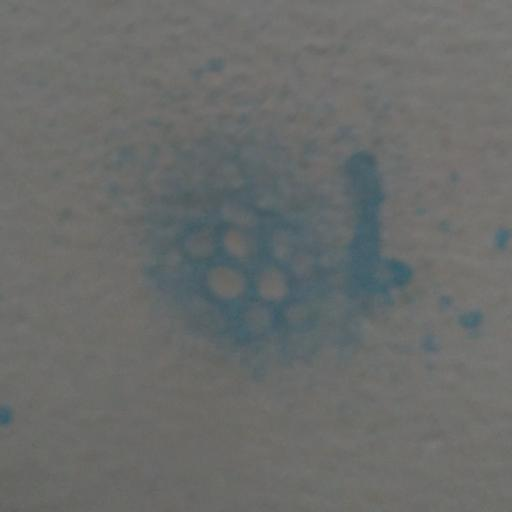stain: (81, 44, 511, 375)
